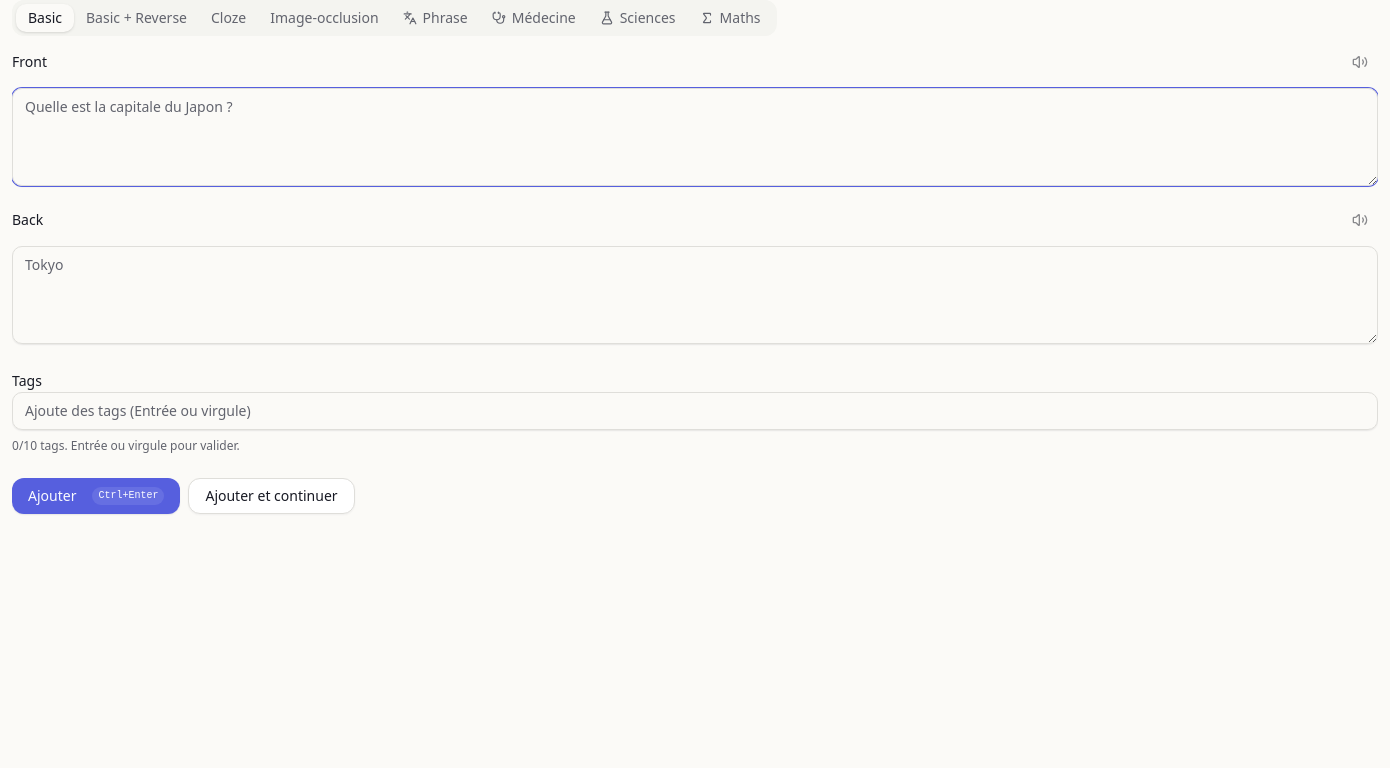
Test: NoteEditor — Phrase tab › renders the Phrase tab inputs (source, target, hint, frequency band)
The image size is (1390, 768).
Step 1. Click the tab "Phrase" → (435, 18), box [391,4,480,32]
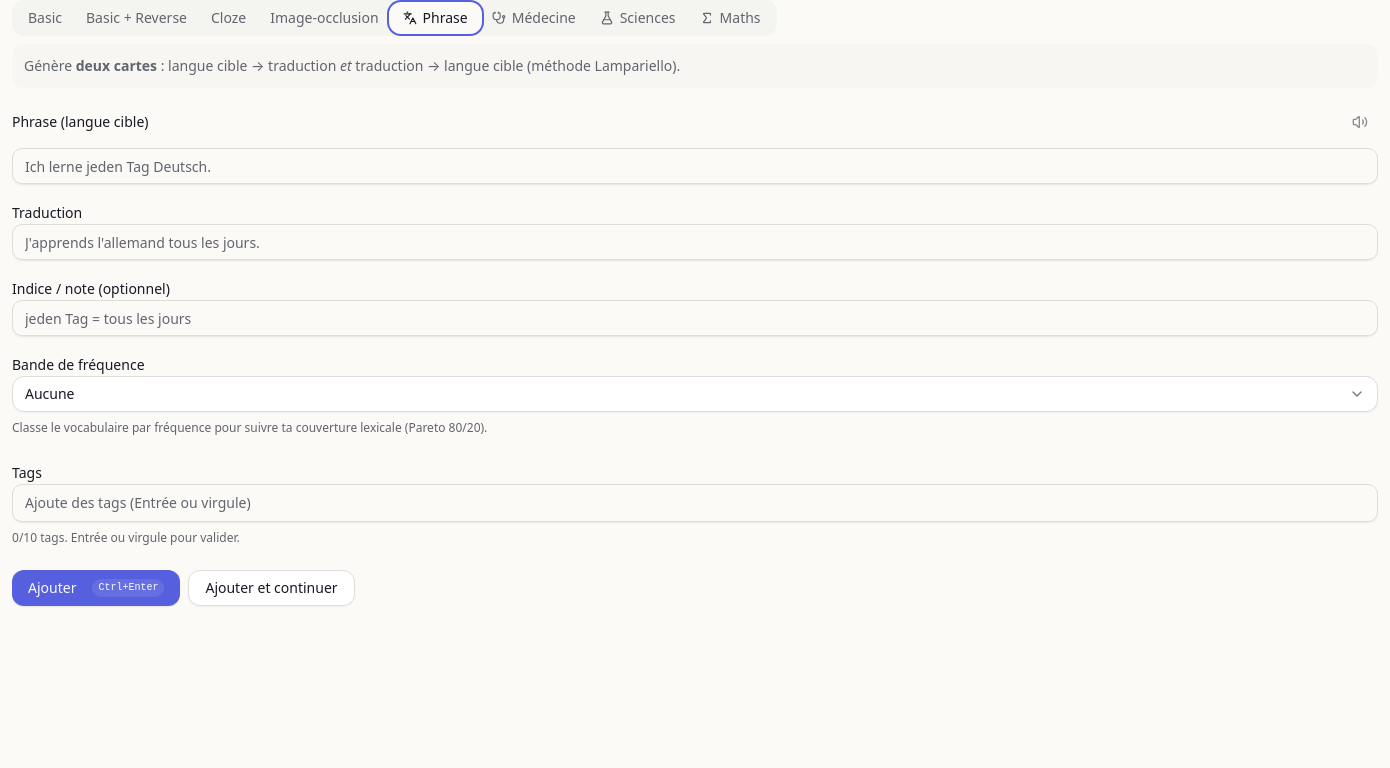
Check: the field labelled "Phrase (langue cible)" is shown, box [12,148,1378,184]
Check: the field labelled "Traduction" is shown, box [12,224,1378,260]
Check: the field labelled "Indice / note (optionnel)" is shown, box [12,300,1378,336]
